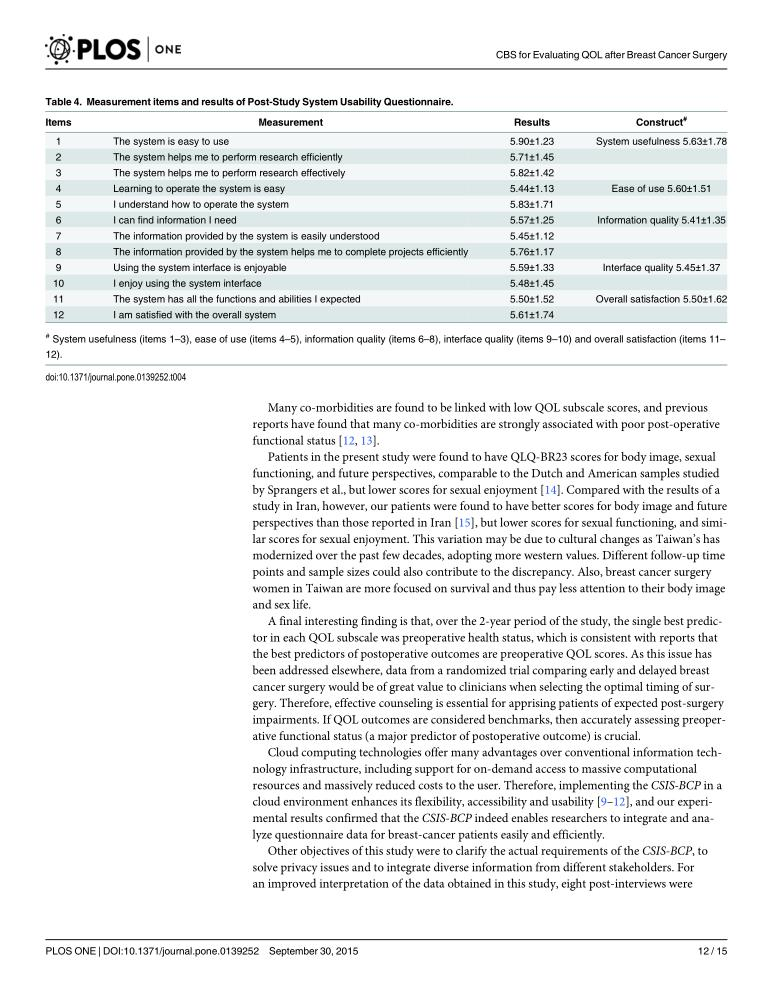table: (45, 114, 726, 320)
